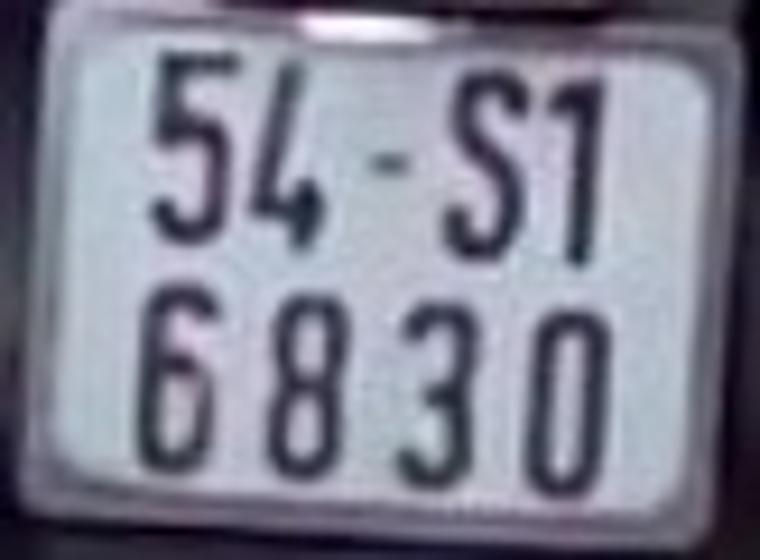-: (365, 154, 417, 177)
0: (527, 309, 607, 498)
1: (548, 75, 600, 266)
3: (395, 300, 474, 493)
4: (251, 59, 322, 248)
5: (156, 53, 232, 245)
6: (142, 276, 219, 465)
8: (267, 291, 347, 470)
S: (443, 75, 525, 259)
